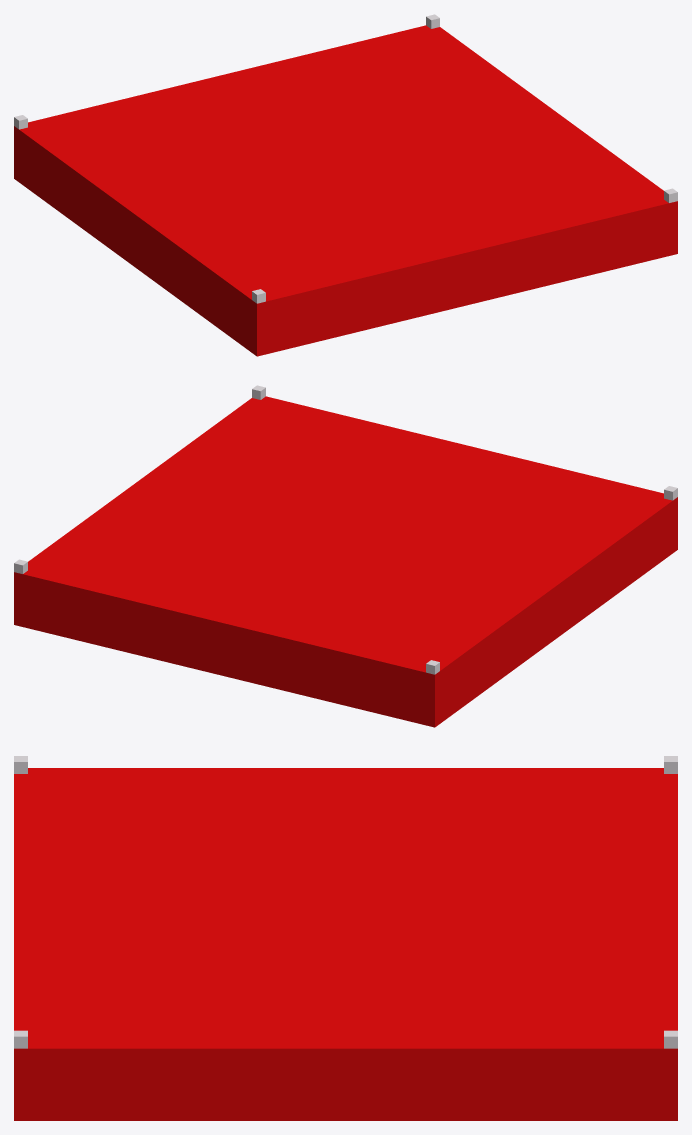
Rendered from 4corner.glb.
3 renders of one model, top to bottom at view 1: azimuth 30°, elevation 25°; view 2: azimuth 150°, elevation 25°; view 3: azimuth 270°, elevation 25°, orthographic. The views are drawn at different scales.
Visible parts, largest first — view 1: 4corner; view 2: 4corner; view 3: 4corner.
Boxes of the visible parts, x1,y1,x2,y2 form: 4corner: [14, 25, 677, 356]; 4corner: [14, 396, 677, 727]; 4corner: [14, 768, 677, 1120].
Size of the model in its own units: 1 by 0.14 by 1.
